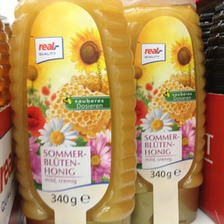honey: (7, 1, 137, 224), (125, 1, 204, 224)
